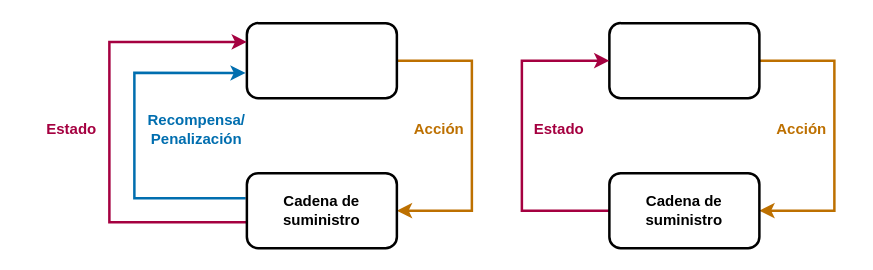
The diagram is 873 pixels wide and 270 high, and some of its shapes have lost their labels. Each missing label, with the centre of its shape:
Agente RL (Q Learning, DQN): the point at 321,60
Políticas de manejos de inventarios: the point at 684,60
